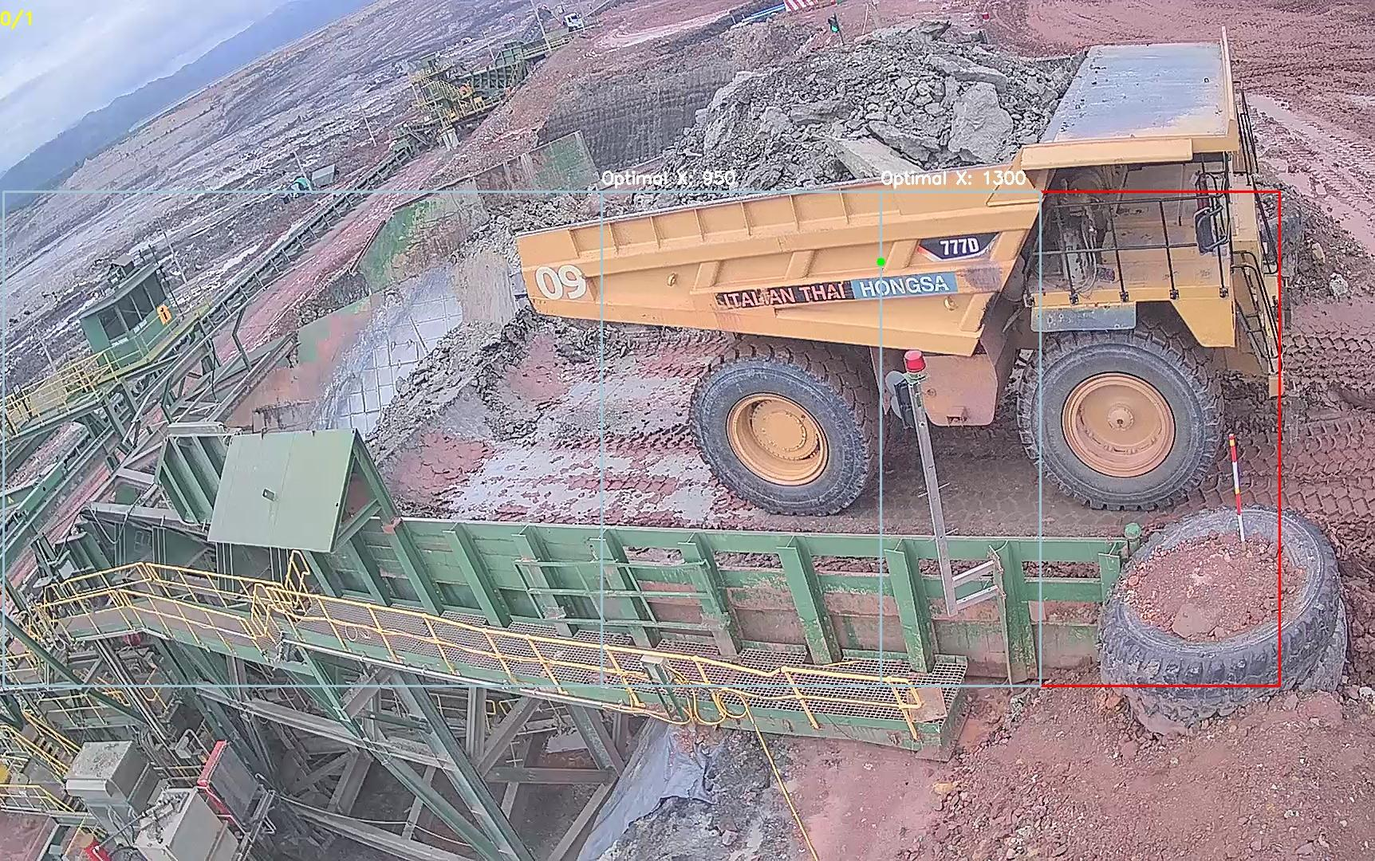company: (706, 264, 960, 310)
full_load: (646, 28, 1038, 197)
mining_truck: (512, 9, 1302, 518)
tail_number: (530, 257, 596, 311)
truck_size: (918, 233, 1002, 262)
